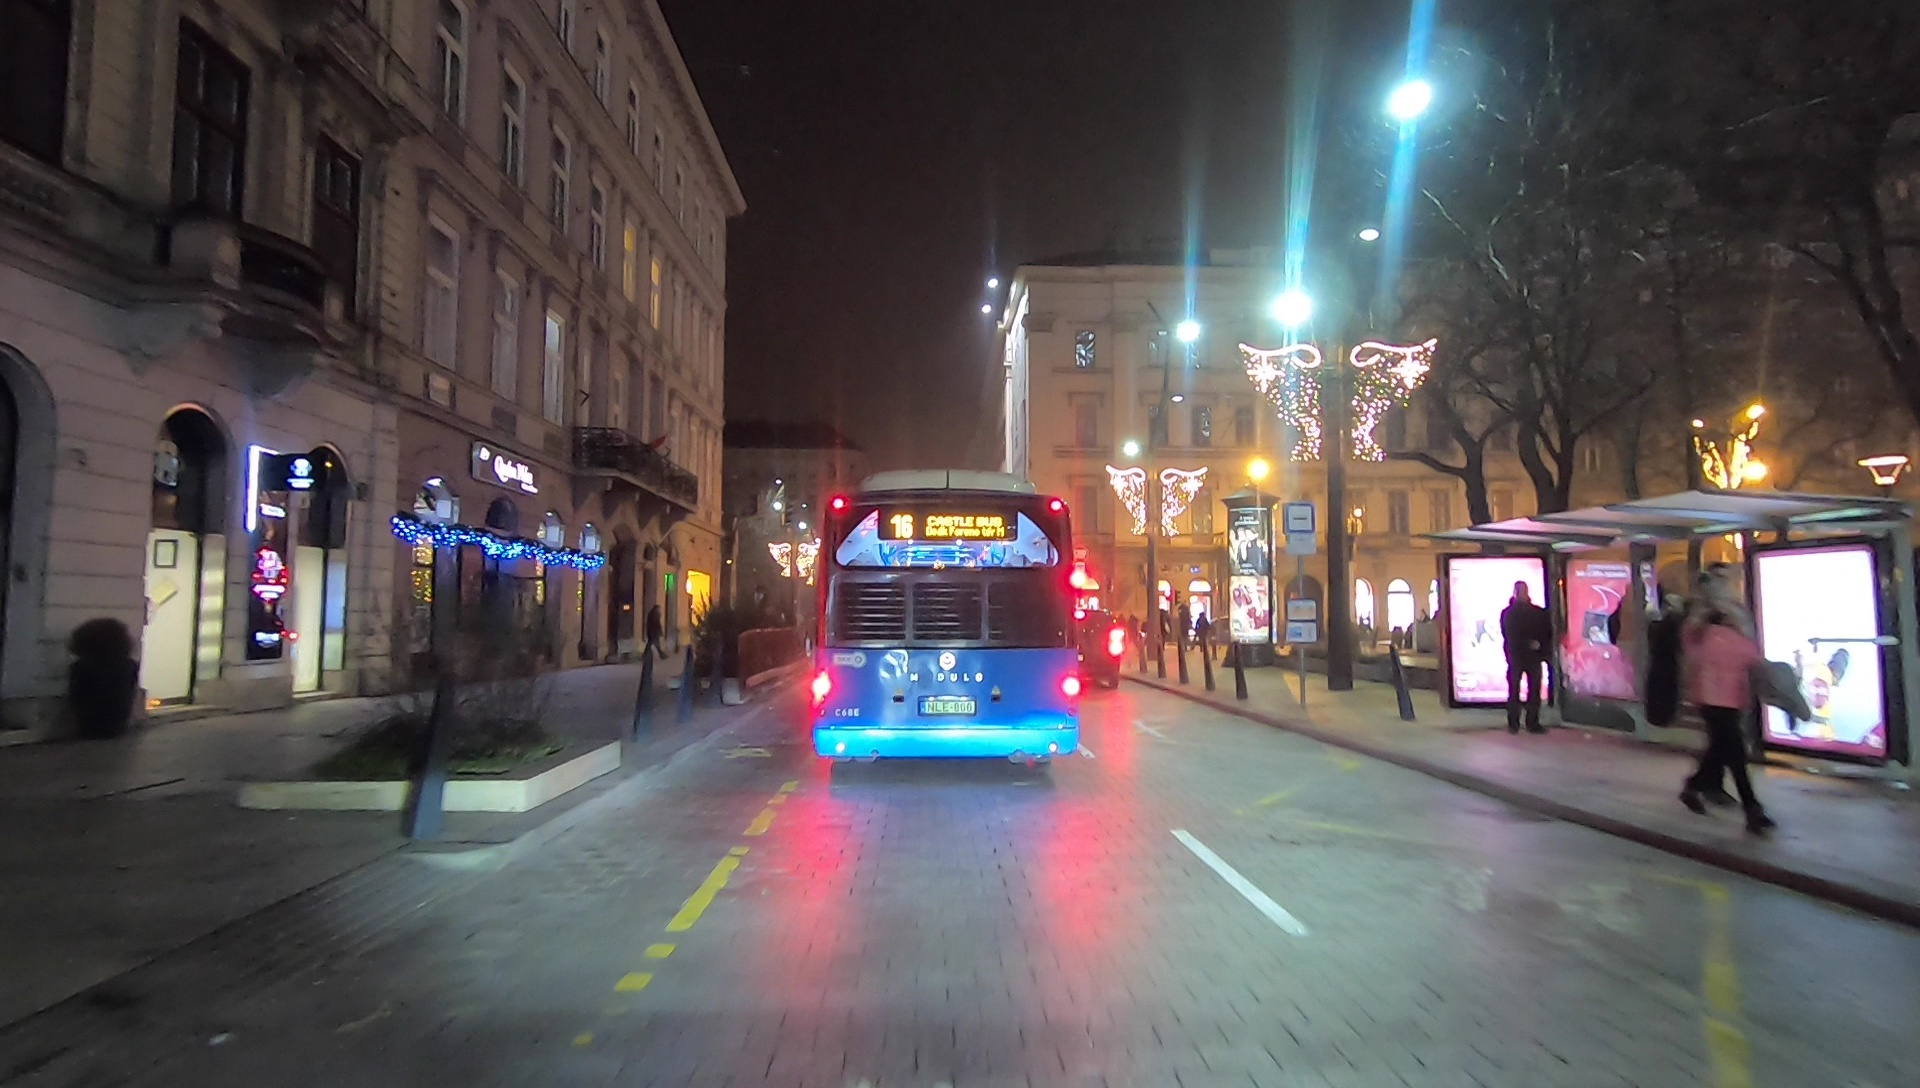person: (1677, 566, 1767, 835), (1498, 582, 1552, 734), (645, 600, 667, 660)
